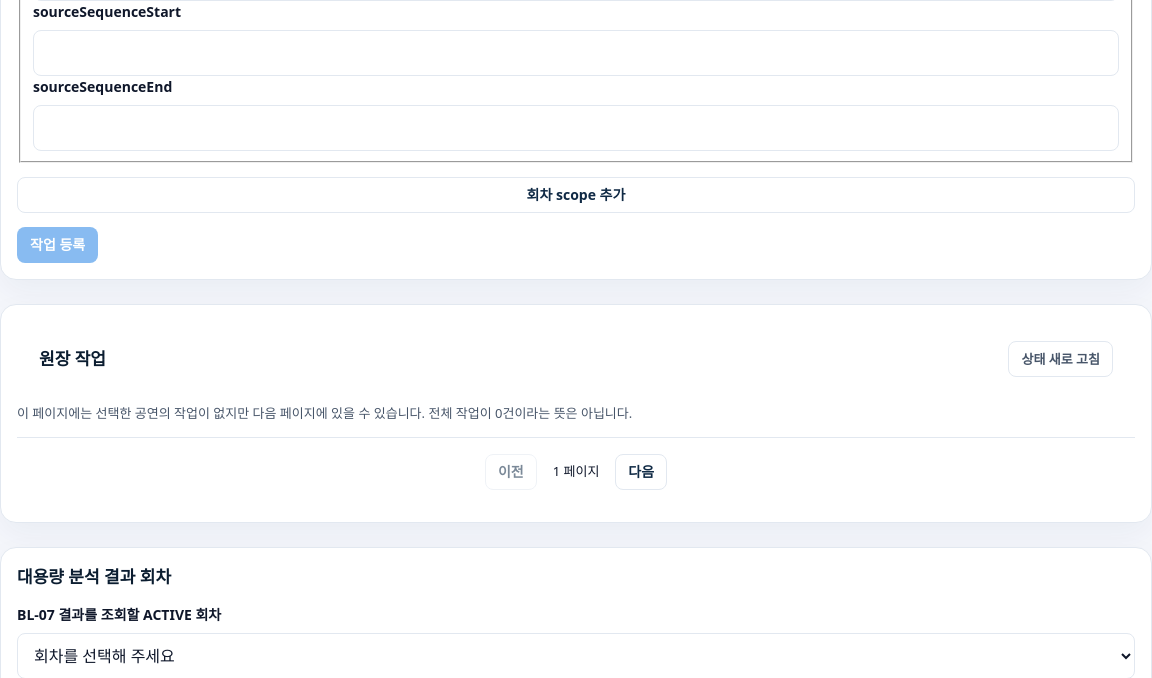
Test: 대용량 원장 관리자 화면 › 현재 페이지에 scope가 없고 다음 페이지가 있으면 전체 0건으로 표시하지 않고 다음 페이지를 조회한다
This screenshot has width=1152, height=678.
(page scrolled)
Expected: the text "전체 작업이 0건이라는 뜻은 아닙니다" is shown, x1=17 y1=404 x2=632 y2=422
Click the button "다음": (641, 472) x1=615 y1=454 x2=667 y2=490
(page scrolled)
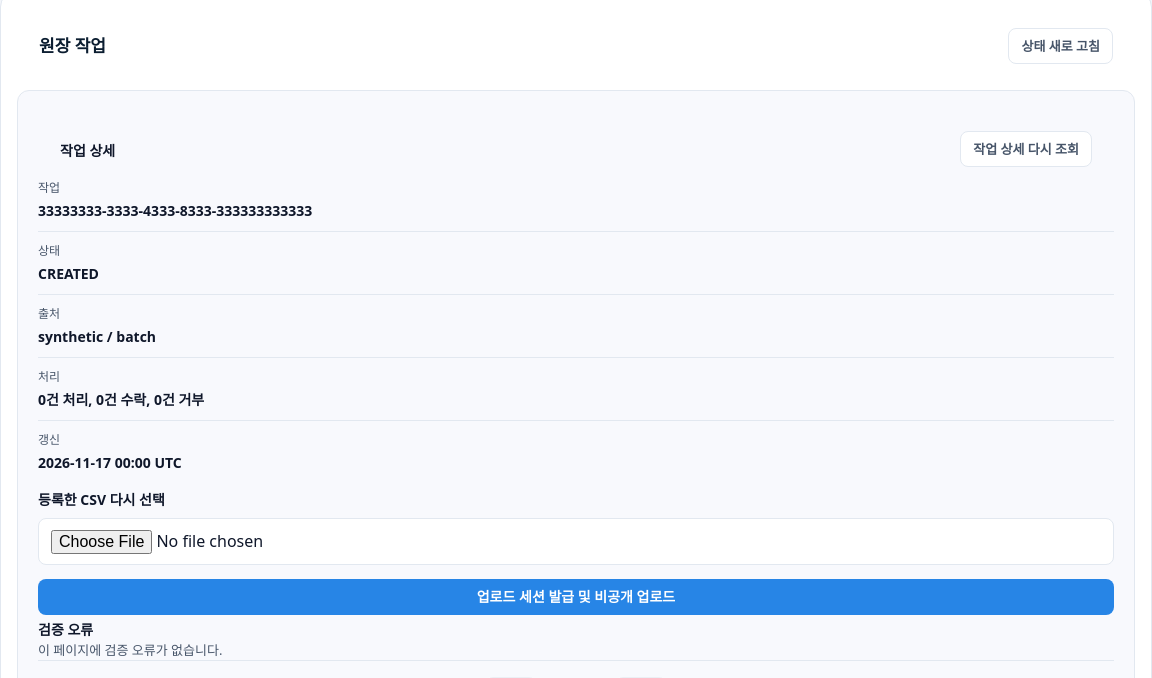
Expected: the text "synthetic / batch" is shown, x1=38 y1=327 x2=156 y2=346
